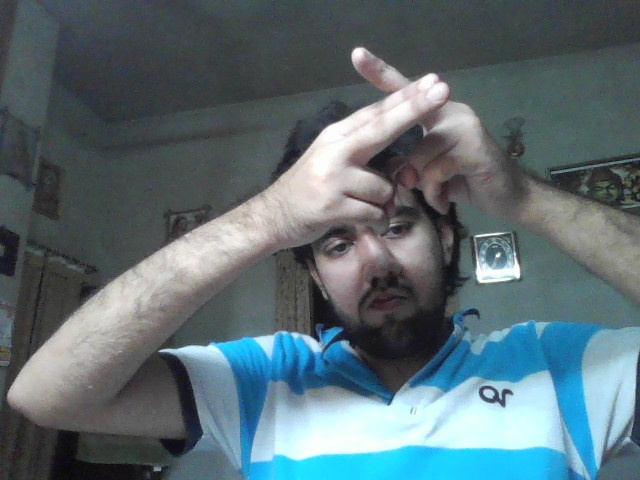Name: (276, 46, 522, 238)
